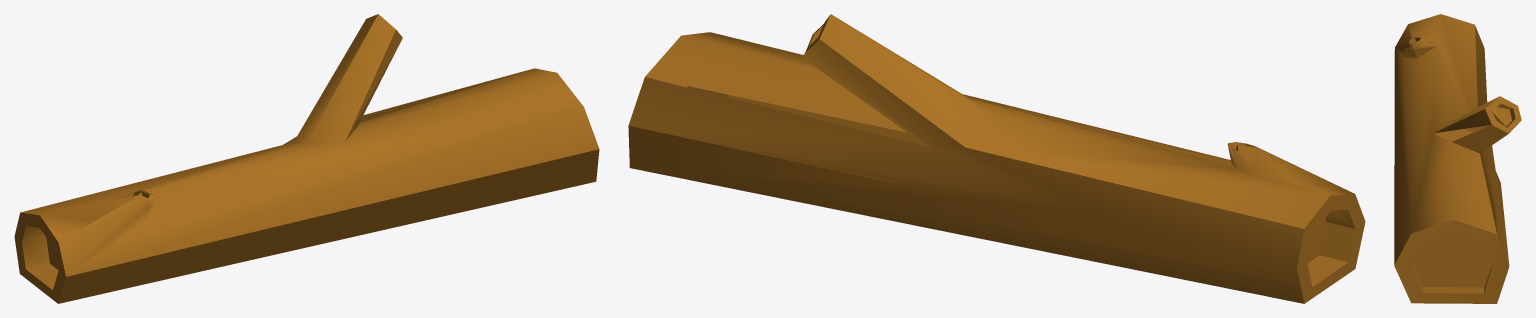
File: log.glb
3 renders of one model, left to right at view 1: azimuth 30°, elevation 25°; view 2: azimuth 150°, elevation 25°; view 3: azimuth 270°, elevation 25°, orthographic. The views are drawn at different scales.
Visible parts, largest first — view 1: default7_Material_0; view 2: default7_Material_0; view 3: default7_Material_0.
Boxes of the visible parts, <box> form: default7_Material_0: <box>14,14,599,303</box>; default7_Material_0: <box>628,14,1365,303</box>; default7_Material_0: <box>1394,14,1521,303</box>.
Size of what is drawn, in the model's own units: 2.93 by 0.8705 by 0.7164.
